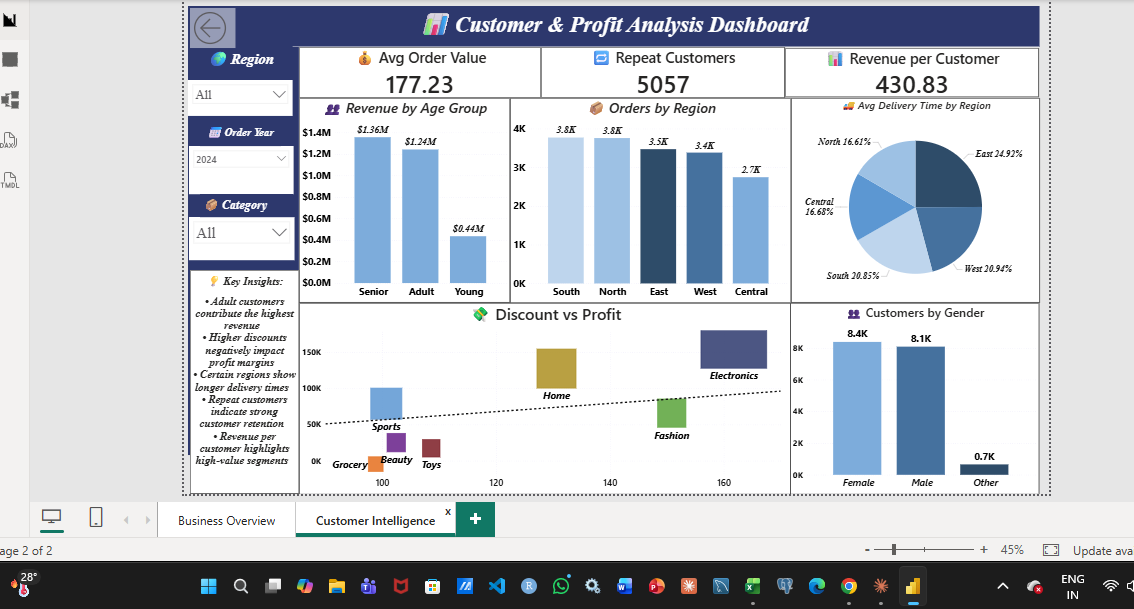

The dashboard page shown, as its layout file describes it:
{"tool":"powerbi","page":{"name":"Customer Intelligence","canvas":[1900,1086],"ordinal":1},"visuals":[{"type":"textbox","box":[9.4,14.1,1871.9,89],"z":0},{"type":"card","title":"💰 Avg Order Value","fields":{"Values":["Date_Table.Avg Order Value"]},"box":[252.8,103.3,532,112.1],"z":1},{"type":"card","title":"🔁 Repeat Customers","fields":{"Values":["Date_Table.Repeat Customers"]},"box":[784.8,103.3,536.4,112.1],"z":2},{"type":"card","title":"📊 Revenue per Customer","fields":{"Values":["Date_Table.Revenue Per Customer"]},"box":[1321.2,105.5,558.4,107.7],"z":3},{"type":"shape","box":[9.4,103.1,243.6,897.3],"z":4},{"type":"slicer","fields":{"Values":["E_Commerce_Sales_Datasets.region"]},"box":[9.7,175.1,230.3,79.5],"z":5},{"type":"textbox","box":[9.7,102.2,230.3,73],"z":6},{"type":"slicer","fields":{"Values":["E_Commerce_Sales_Datasets.Order_Year"]},"box":[10.2,321,229.6,105.7],"z":7},{"type":"textbox","box":[34.5,268.2,176.8,52.8],"z":8},{"type":"slicer","fields":{"Values":["E_Commerce_Sales_Datasets.category"]},"box":[10.2,477.5,231.6,95.5],"z":9},{"type":"textbox","box":[34.5,426.7,205.2,50.8],"z":10},{"type":"pieChart","title":"🚚 Avg Delivery Time by Region","fields":{"Category":["E_Commerce_Sales_Datasets.region"],"Y":["Avg(E_Commerce_Sales_Datasets.delivery_time_days)"]},"box":[1333.3,216.2,547.3,450.5],"z":11},{"type":"clusteredColumnChart","title":"📦 Orders by Region","fields":{"Category":["E_Commerce_Sales_Datasets.region"],"Y":["CountNonNull(E_Commerce_Sales_Datasets.order_id)"]},"box":[716.7,215.4,617.7,450.7],"z":12},{"type":"clusteredColumnChart","title":"👥 Customers by Gender","fields":{"Category":["E_Commerce_Sales_Datasets.customer_gender"],"Y":["CountNonNull(E_Commerce_Sales_Datasets.order_id)"]},"box":[1333,665.3,547.9,420.7],"z":13},{"type":"scatterChart","title":"💸 Discount vs Profit","fields":{"X":["Sum(E_Commerce_Sales_Datasets.discount)"],"Y":["Sum(E_Commerce_Sales_Datasets.profit_margin)"],"Series":["E_Commerce_Sales_Datasets.category"],"Size":["Sum(E_Commerce_Sales_Datasets.Revenue)"]},"box":[251.9,665.3,1081.1,420.7],"z":14},{"type":"clusteredColumnChart","title":"👥 Revenue by Age Group","fields":{"Category":["E_Commerce_Sales_Datasets.Age Group"],"Y":["Sum(E_Commerce_Sales_Datasets.Revenue)"]},"box":[253,215.5,463.9,449.8],"z":15},{"type":"textbox","box":[12.2,594.4,239.7,491.6],"z":16},{"type":"actionButton","box":[12.2,17.1,100.3,88.1],"z":17}]}

Visuals, with their boxes on the page's 1900x1086 design canvas (x1, y1, x2, y2). These are canvas units, not pixel positions in the 1134x609 screenshot, which may show the page scaled, cropped or inside an application window:
textbox: BBox(9, 14, 1881, 103)
"💰 Avg Order Value" card: BBox(253, 103, 785, 215)
"🔁 Repeat Customers" card: BBox(785, 103, 1321, 215)
"📊 Revenue per Customer" card: BBox(1321, 106, 1880, 213)
shape: BBox(9, 103, 253, 1000)
slicer - E_Commerce_Sales_Datasets.region: BBox(10, 175, 240, 255)
textbox: BBox(10, 102, 240, 175)
slicer - E_Commerce_Sales_Datasets.Order_Year: BBox(10, 321, 240, 427)
textbox: BBox(34, 268, 211, 321)
slicer - E_Commerce_Sales_Datasets.category: BBox(10, 478, 242, 573)
textbox: BBox(34, 427, 240, 478)
"🚚 Avg Delivery Time by Region" pieChart: BBox(1333, 216, 1881, 667)
"📦 Orders by Region" clusteredColumnChart: BBox(717, 215, 1334, 666)
"👥 Customers by Gender" clusteredColumnChart: BBox(1333, 665, 1881, 1086)
"💸 Discount vs Profit" scatterChart: BBox(252, 665, 1333, 1086)
"👥 Revenue by Age Group" clusteredColumnChart: BBox(253, 216, 717, 665)
textbox: BBox(12, 594, 252, 1086)
actionButton: BBox(12, 17, 112, 105)
